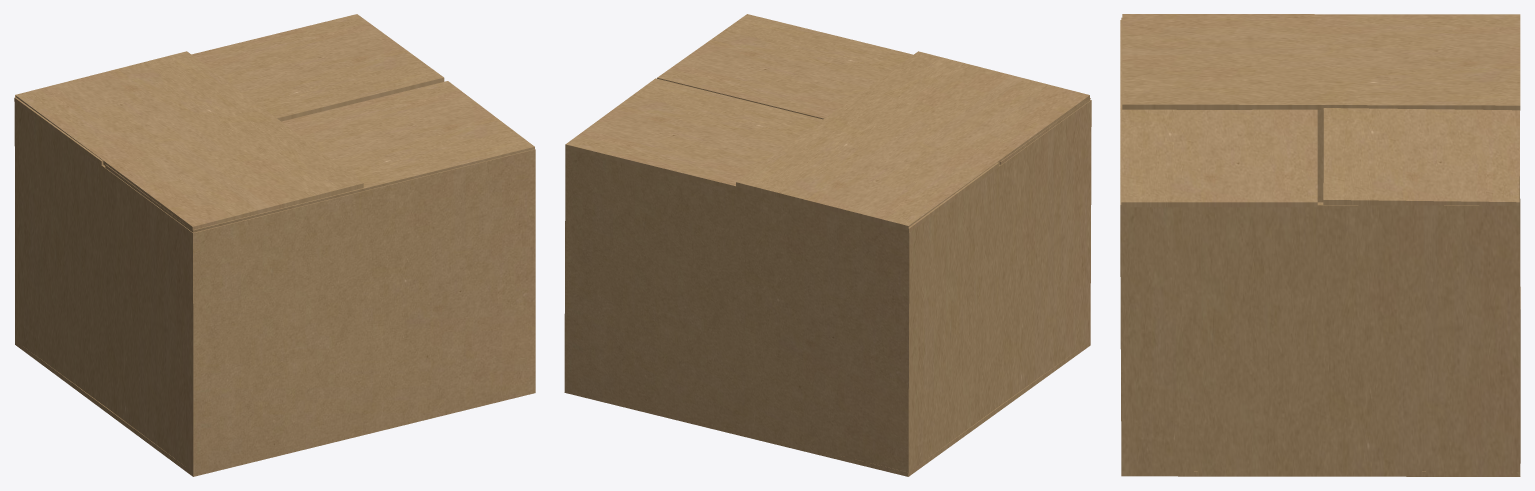
File: Cardbox_closed02.FBX
3 renders of one model, left to right at view 1: azimuth 30°, elevation 25°; view 2: azimuth 150°, elevation 25°; view 3: azimuth 270°, elevation 25°, orthographic. The views are drawn at different scales.
Parts seen in each view (by area): view 1: Cardbox_closed02; view 2: Cardbox_closed02; view 3: Cardbox_closed02.
Part boxes in pixels (x1,y1,x2,y2): Cardbox_closed02: [14, 14, 535, 476]; Cardbox_closed02: [564, 14, 1091, 476]; Cardbox_closed02: [1120, 14, 1520, 476].
Bounding box in the file's own units: 1.58 × 1.11 × 1.44.
